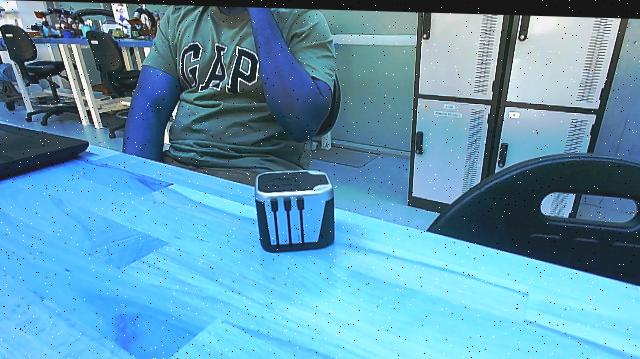adapter: (247, 164, 341, 251)
